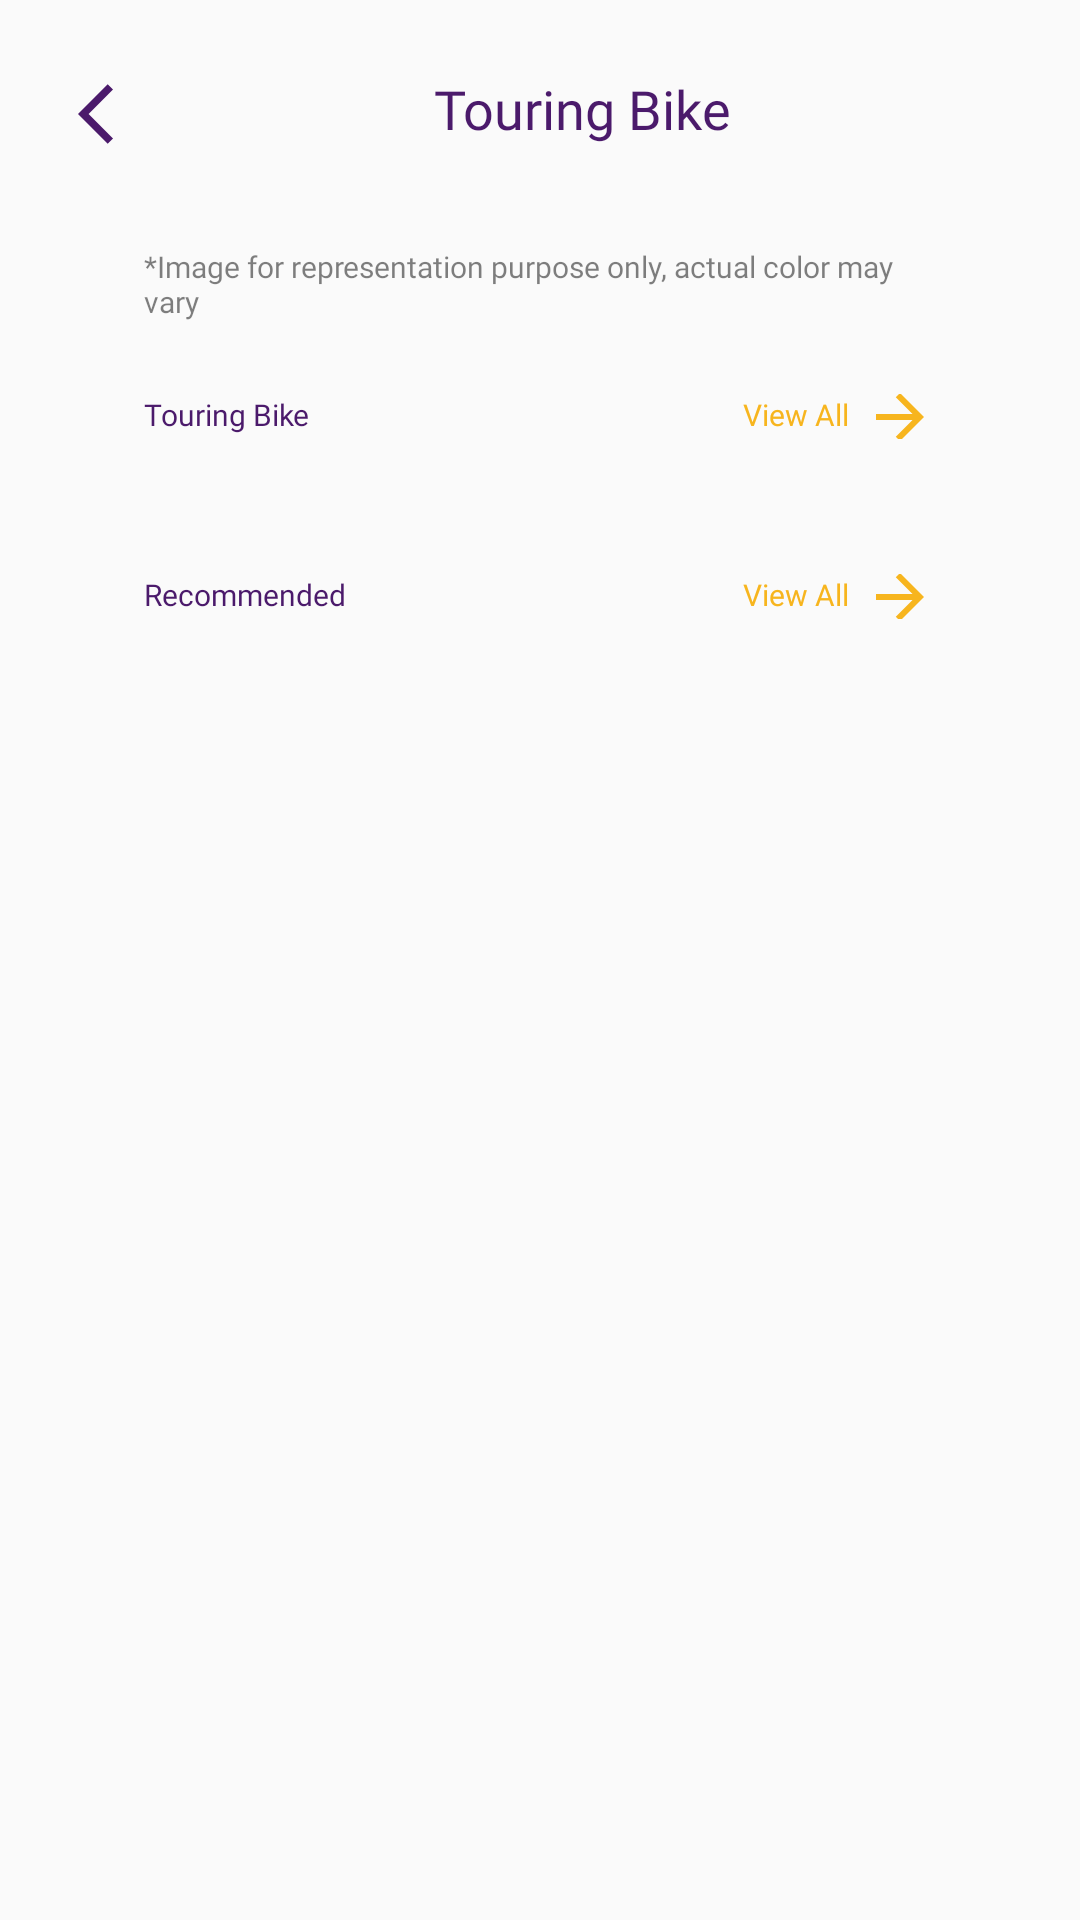

Locate icon controls on the screen. Image size 1080 × 1920, boxes as bbox=(x1, y1, x2, y2).
back arrow: bbox=(78, 84, 113, 144)
